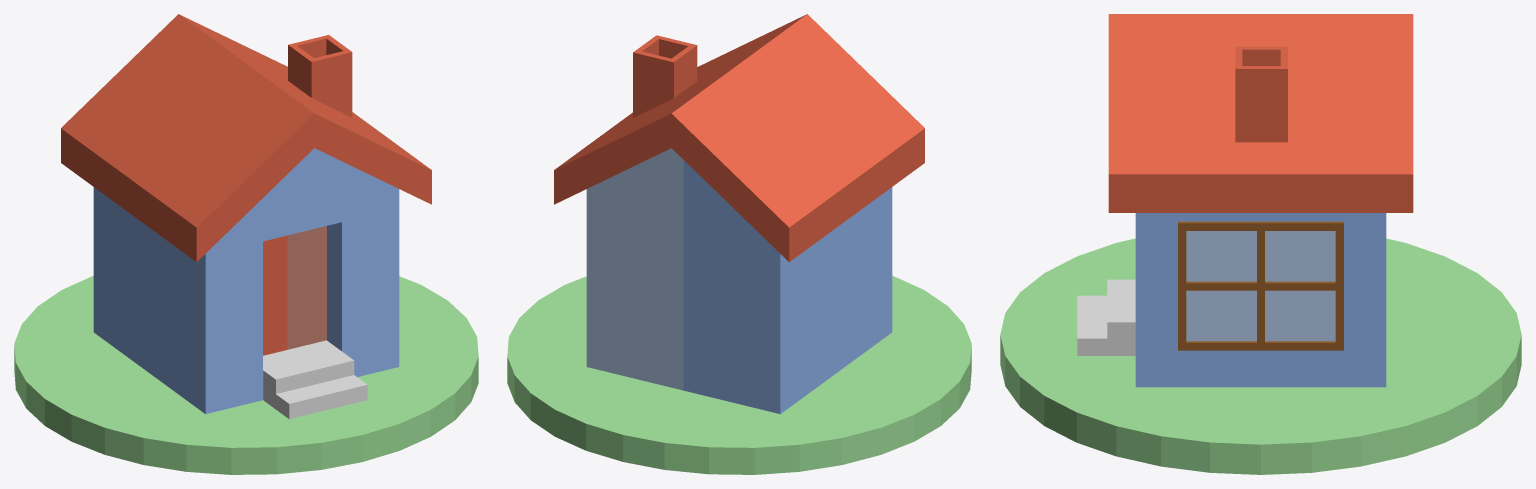
Rendered from house.glb.
The picture shows the model from 3 angles, left to right: view 1: azimuth 30°, elevation 25°; view 2: azimuth 150°, elevation 25°; view 3: azimuth 270°, elevation 25°; orthographic projection. The views are drawn at different scales.
Visible parts, largest first — view 1: 立方体, 円, 立方体.001, 立方体.004, 立方体.005, 立方体.006; view 2: 立方体, 円, 立方体.001, 立方体.004; view 3: 円, 立方体.001, 立方体, 立方体.003, 立方体.004, 立方体.006, 立方体.005.
Boxes of the visible parts, x1,y1,x2,y2 form: 立方体: [93, 148, 399, 414]; 円: [14, 276, 478, 474]; 立方体.001: [61, 14, 431, 262]; 立方体.004: [288, 35, 352, 117]; 立方体.005: [263, 340, 354, 409]; 立方体.006: [276, 375, 367, 419]; 立方体: [586, 148, 892, 414]; 円: [507, 276, 971, 474]; 立方体.001: [554, 14, 924, 262]; 立方体.004: [633, 35, 697, 117]; 円: [1000, 238, 1521, 474]; 立方体.001: [1108, 14, 1413, 212]; 立方体: [1135, 213, 1386, 387]; 立方体.003: [1178, 221, 1343, 350]; 立方体.004: [1235, 46, 1287, 142]; 立方体.006: [1077, 295, 1135, 355]; 立方体.005: [1107, 279, 1135, 338].
Bounding box in the file's own units: 4.16 × 3.09 × 4.16.
